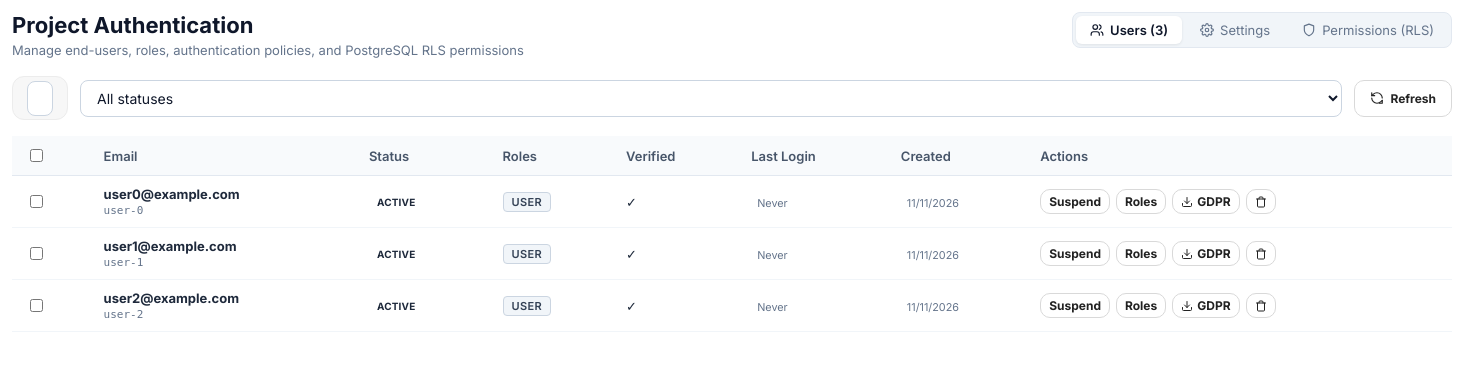
Test: Project Authentication bulk actions › retains only failed users after a partially successful role change
Later steps or results of the test are not shown.
Step 1. Click the checkbox named "Select displayed users" → (36, 156), box x1=30 y1=149 x2=43 y2=162
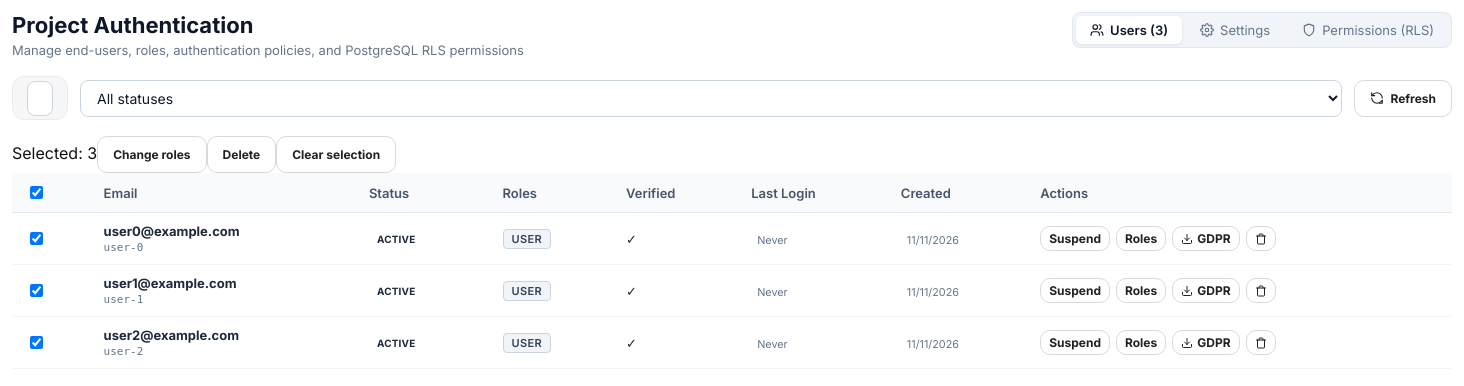
Result: the button "Change roles" is shown at x1=97 y1=136 x2=206 y2=173
